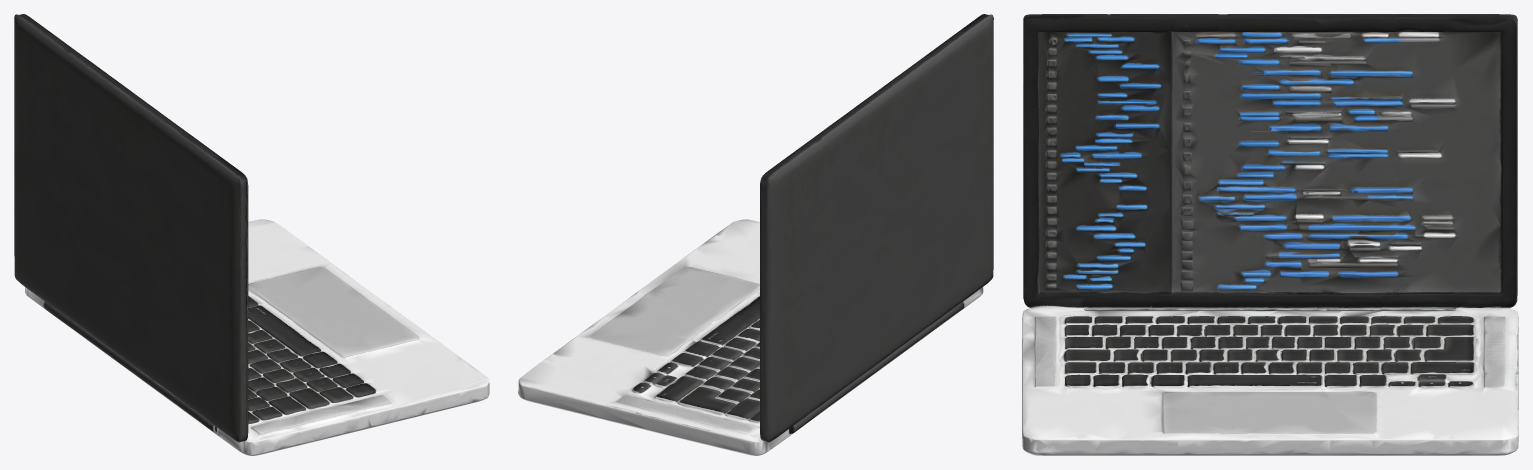
File: laptop.glb
3 renders of one model, left to right at view 1: azimuth 30°, elevation 25°; view 2: azimuth 150°, elevation 25°; view 3: azimuth 270°, elevation 25°, orthographic. The views are drawn at different scales.
Visible parts, largest first — view 1: Object_01; view 2: Object_01; view 3: Object_01.
Part boxes in pixels (box(x1,y1,x2,y2)): Object_01: box(14, 14, 489, 455); Object_01: box(518, 14, 993, 455); Object_01: box(1022, 14, 1518, 455).
Bounding box in the file's own units: 0.6561 × 0.6927 × 0.9998.
Materials: 1 (1 with a texture image).
